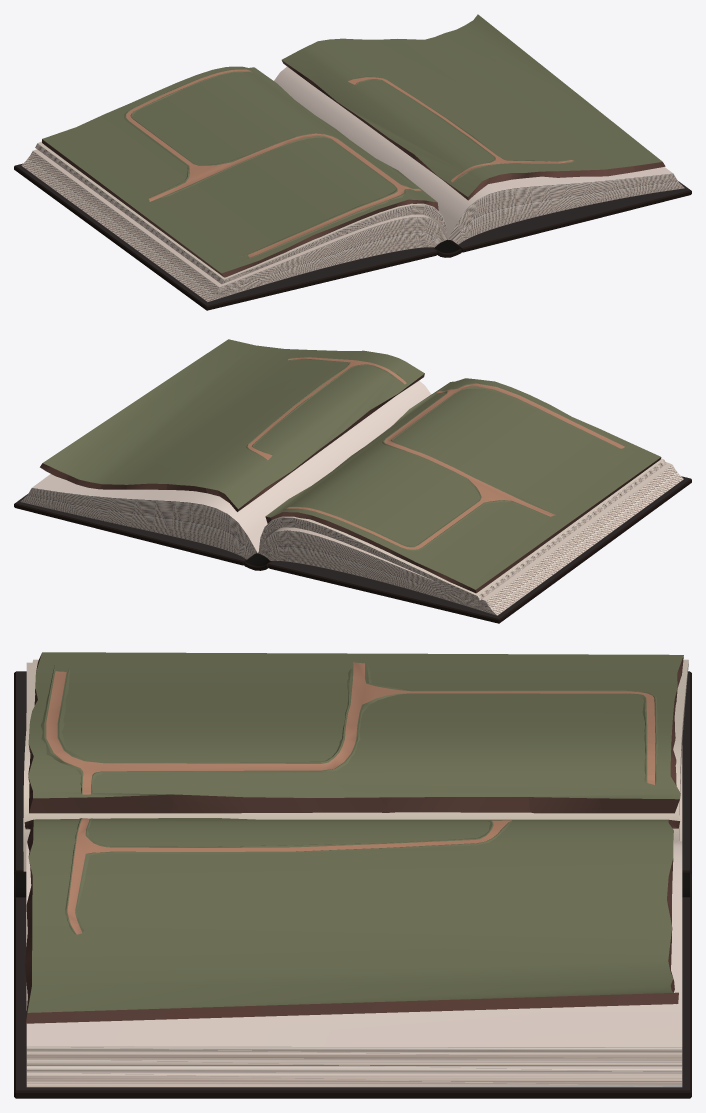
The model's file is Book_.fbx.
The picture shows the model from 3 angles, top to bottom: view 1: azimuth 30°, elevation 25°; view 2: azimuth 150°, elevation 25°; view 3: azimuth 270°, elevation 25°; orthographic projection. The views are drawn at different scales.
Parts seen in each view (by area): view 1: Scene; view 2: Scene; view 3: Scene.
Boxes of the visible parts, x1,y1,x2,y2 form: Scene: (14, 14, 691, 310); Scene: (14, 339, 691, 623); Scene: (14, 652, 691, 1098).
Size of the model in its own units: 10307 by 1344 by 7088.
